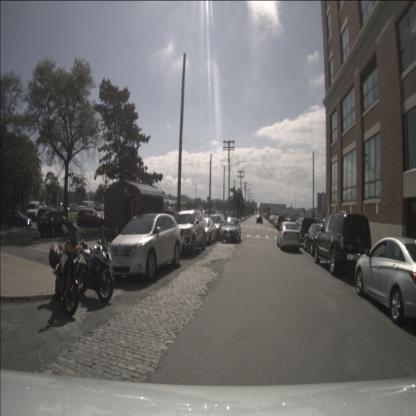vehicle-car: (354, 236, 416, 324), (109, 213, 181, 282), (314, 211, 371, 276), (167, 210, 206, 256), (39, 209, 73, 238), (303, 224, 330, 258), (293, 216, 318, 248), (277, 222, 300, 252), (0, 209, 32, 229), (195, 217, 217, 245), (76, 209, 105, 229), (36, 207, 60, 231), (221, 217, 242, 244), (27, 200, 40, 221), (78, 200, 96, 215), (276, 215, 285, 230), (274, 218, 280, 229), (256, 215, 263, 224), (273, 218, 279, 226), (269, 215, 274, 222), (271, 216, 276, 223), (266, 213, 271, 220)
vehicle-motorcycle: (49, 224, 83, 317), (76, 236, 114, 303)
vehicle-truck: (208, 214, 226, 240)
